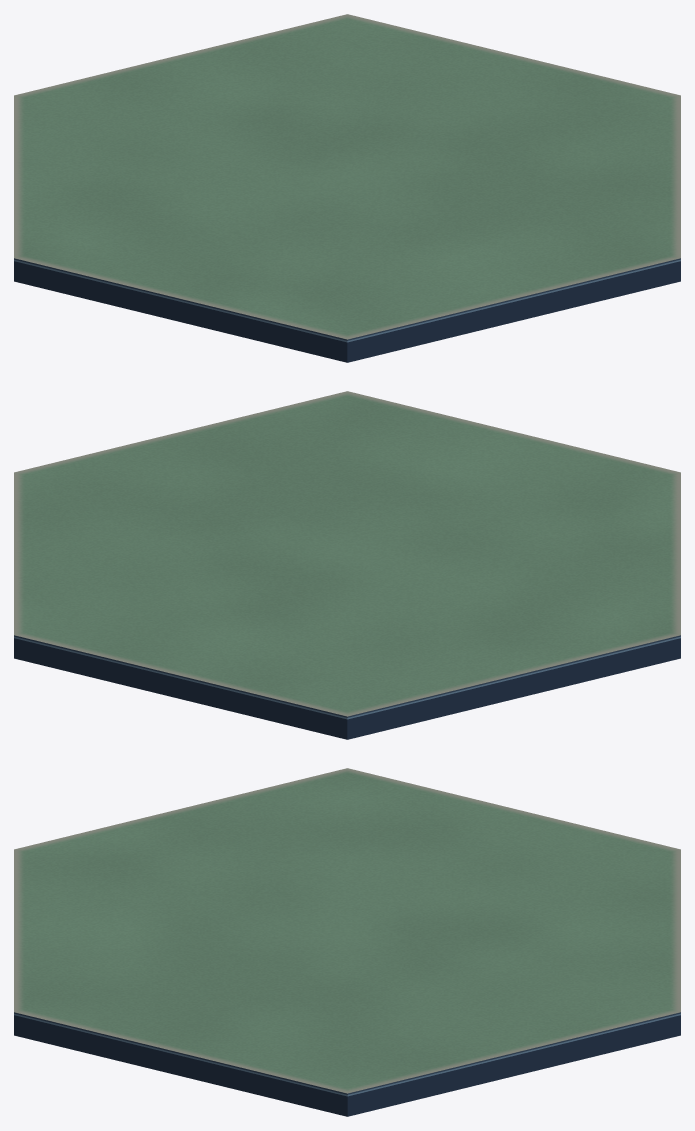
The picture shows the model from 3 angles, top to bottom: view 1: azimuth 30°, elevation 25°; view 2: azimuth 150°, elevation 25°; view 3: azimuth 270°, elevation 25°; orthographic projection.
Parts seen in each view (by area): view 1: campus_tile_park; view 2: campus_tile_park; view 3: campus_tile_park.
Boxes of the visible parts, x1,y1,x2,y2 form: campus_tile_park: (14, 14, 680, 362); campus_tile_park: (14, 391, 680, 739); campus_tile_park: (14, 768, 680, 1116).
Bounding box in the file's own units: 36 × 1.2 × 31.18.
1 material, 1 textured.
